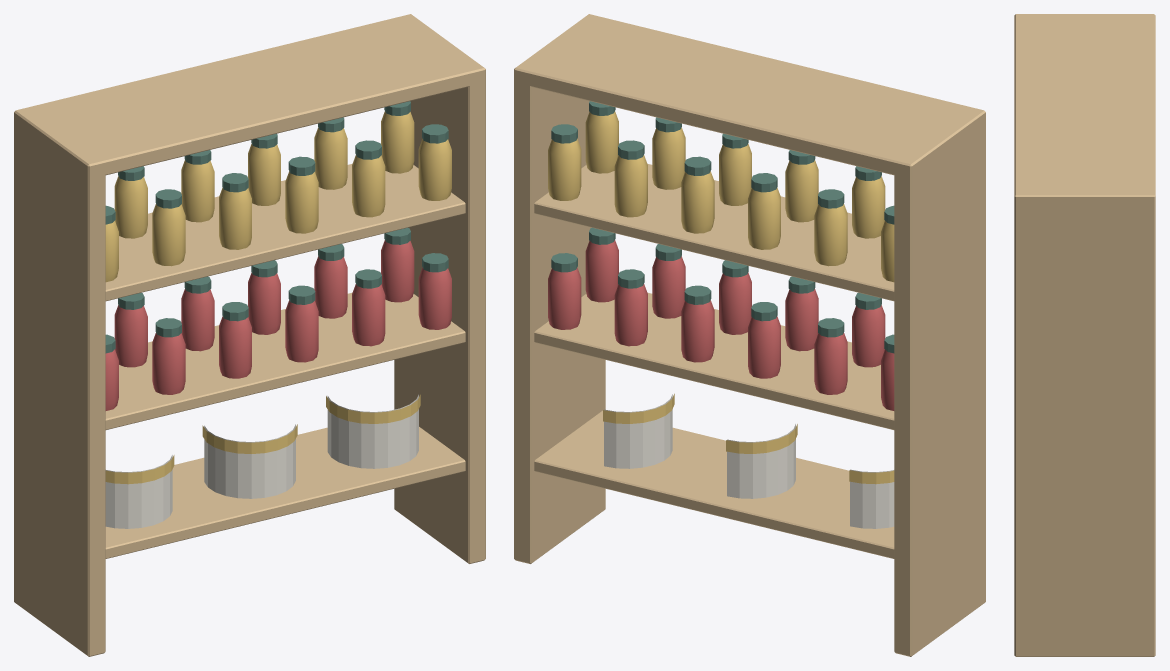
The model's file is indoor-market-hall-and-traders-preserve-and-cheese-she-99589905.glb.
3 views of the same model, side by side, from view 1: azimuth 30°, elevation 25°; view 2: azimuth 150°, elevation 25°; view 3: azimuth 270°, elevation 25° (orthographic). The views are drawn at different scales.
Visible parts, largest first — view 1: preserve-and-cheese-shelf; view 2: preserve-and-cheese-shelf; view 3: preserve-and-cheese-shelf.
Part boxes in pixels (left/top/right/bottom): preserve-and-cheese-shelf: left=14, top=14, right=485, bottom=656; preserve-and-cheese-shelf: left=514, top=14, right=985, bottom=656; preserve-and-cheese-shelf: left=1014, top=14, right=1155, bottom=656.
Bounding box in the file's own units: 1.1 × 1.3 × 0.36.
